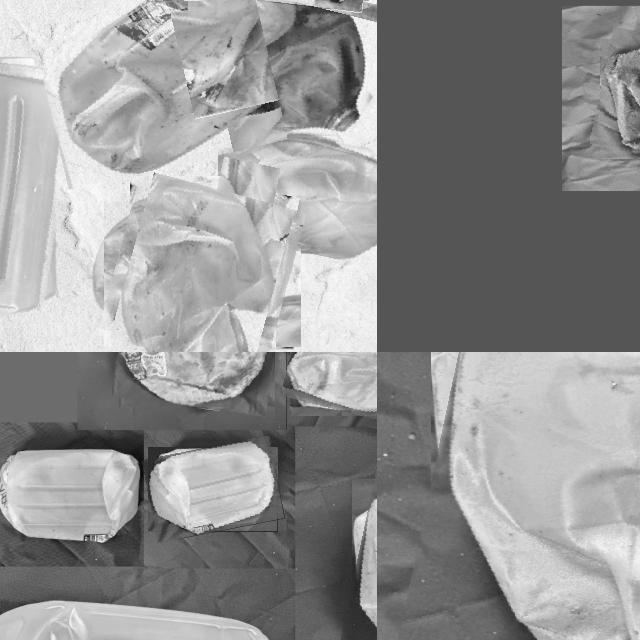milk-jug: (411, 352, 640, 640), (42, 7, 280, 178), (106, 178, 296, 352), (180, 0, 377, 137), (212, 126, 377, 262), (0, 49, 70, 318), (0, 447, 135, 546), (144, 442, 280, 538), (0, 602, 281, 640), (114, 352, 278, 412), (284, 352, 377, 424), (593, 32, 640, 165)
